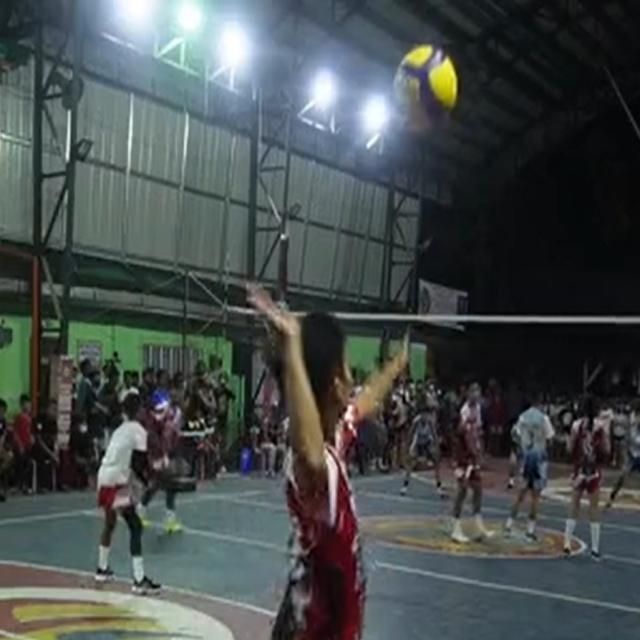volleyball: (394, 43, 457, 130)
